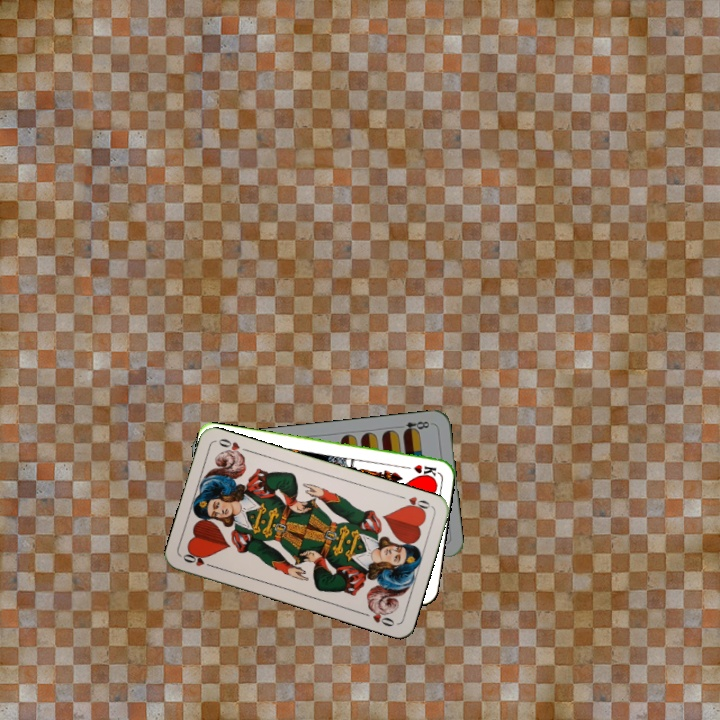E8: (394, 417, 435, 436)
HK: (399, 460, 439, 479)
HO: (394, 491, 434, 515), (179, 549, 218, 571)
